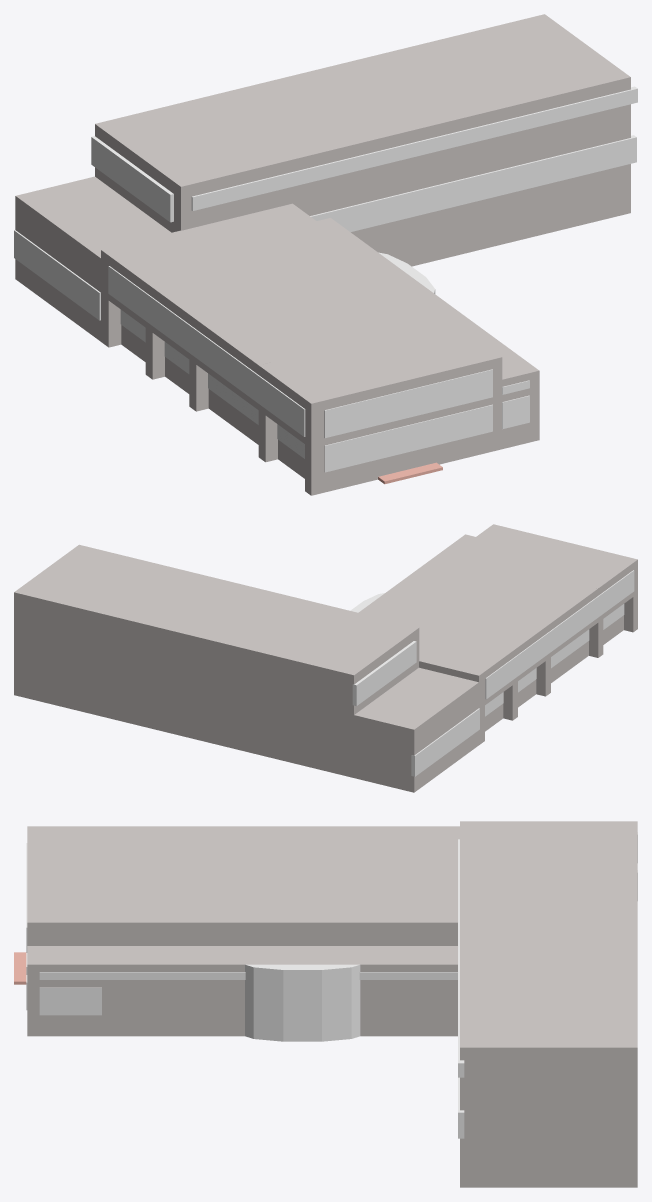
The model's file is sande.glb.
The picture shows the model from 3 angles, top to bottom: view 1: azimuth 30°, elevation 25°; view 2: azimuth 150°, elevation 25°; view 3: azimuth 270°, elevation 25°; orthographic projection. The views are drawn at different scales.
Visible parts, largest first — view 1: 立方体.031, 立方体.001, 立方体.013, 立方体.016, 立方体.401, 立方体.393, 立方体.361, 立方体.005, 立方体.006, 立方体.441, 立方体.404, 立方体.402 (+1 smaller); view 2: 立方体.031, 立方体.001, 立方体.401, 立方体.006, 立方体.005, 立方体.441, 立方体.404, 立方体.402; view 3: 立方体.001, 立方体.031, 平面.005, 立方体.391, 立方体.392, 立方体.016.
Part boxes in pixels (<box>): 立方体.031: <box>15,14,630,341</box>; 立方体.001: <box>101,203,539,495</box>; 立方体.013: <box>310,135,636,232</box>; 立方体.016: <box>191,86,637,210</box>; 立方体.401: <box>108,266,305,436</box>; 立方体.393: <box>324,369,492,438</box>; 立方体.361: <box>324,404,492,472</box>; 立方体.005: <box>91,136,173,222</box>; 立方体.006: <box>14,230,100,320</box>; 立方体.441: <box>120,309,304,458</box>; 立方体.404: <box>145,328,164,379</box>; 立方体.402: <box>189,360,208,411</box>; 立方体.031: <box>14,544,478,792</box>; 立方体.001: <box>358,524,637,744</box>; 立方体.401: <box>485,570,634,699</box>; 立方体.006: <box>411,708,479,776</box>; 立方体.005: <box>352,641,416,705</box>; 立方体.441: <box>485,604,624,716</box>; 立方体.404: <box>503,681,517,720</box>; 立方体.402: <box>536,657,550,696</box>; 立方体.001: <box>27,826,459,1036</box>; 立方体.031: <box>460,821,637,1187</box>; 平面.005: <box>245,964,360,1041</box>; 立方体.391: <box>39,972,457,979</box>; 立方体.392: <box>39,987,101,1015</box>; 立方体.016: <box>458,839,464,1077</box>.
Bounding box in the file's own units: 11.04 × 2.67 × 10.78.
Materials: 1 (1 with a texture image).
